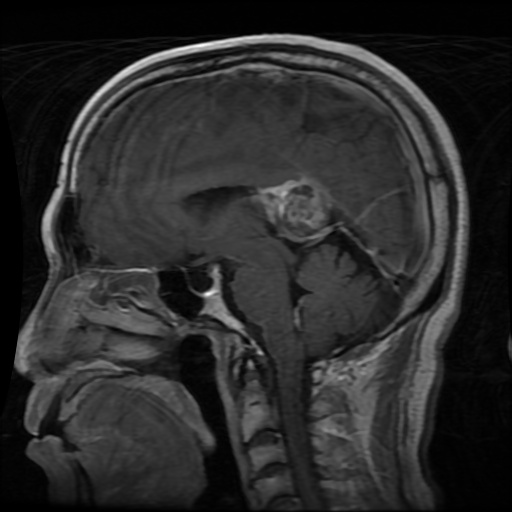glioma: (252, 175, 334, 247)
